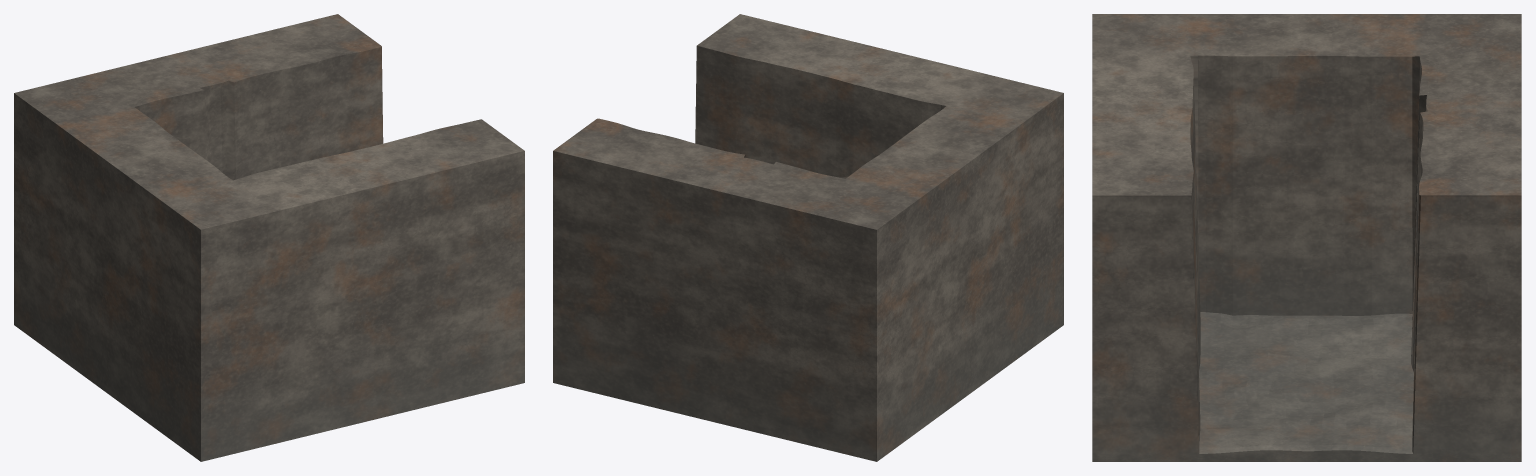
Rendered from dungeon_cave_end_floor.glb.
3 renders of one model, left to right at view 1: azimuth 30°, elevation 25°; view 2: azimuth 150°, elevation 25°; view 3: azimuth 270°, elevation 25°, orthographic. The views are drawn at different scales.
Parts seen in each view (by area): view 1: dungeon_cave_end_floor; view 2: dungeon_cave_end_floor; view 3: dungeon_cave_end_floor.
Boxes of the visible parts, bbox=[...] form: dungeon_cave_end_floor: bbox=[14, 14, 524, 461]; dungeon_cave_end_floor: bbox=[553, 14, 1063, 461]; dungeon_cave_end_floor: bbox=[1092, 14, 1521, 461].
Bounding box in the file's own units: 5.05 × 3.46 × 5.05.
1 material, 1 textured.
